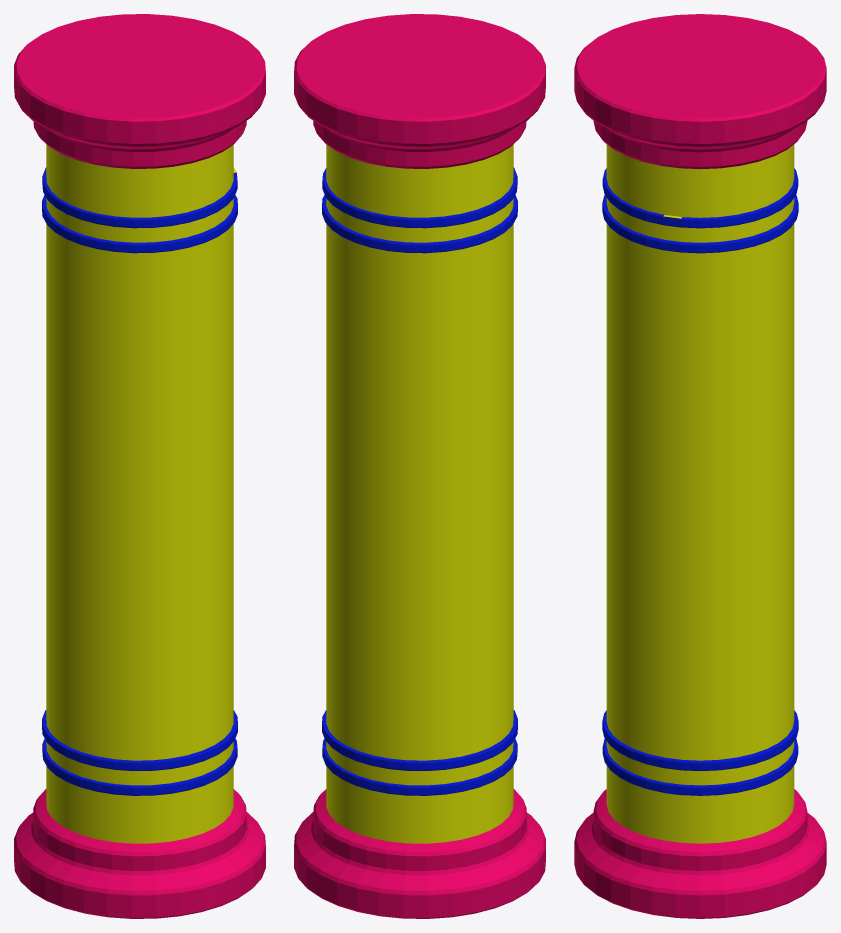
File: column.fbx
3 renders of one model, left to right at view 1: azimuth 30°, elevation 25°; view 2: azimuth 150°, elevation 25°; view 3: azimuth 270°, elevation 25°, orthographic.
Parts seen in each view (by area): view 1: Cylinder.002, Cylinder, Cylinder.001; view 2: Cylinder.002, Cylinder, Cylinder.001; view 3: Cylinder.002, Cylinder, Cylinder.001.
Boxes of the visible parts, left/top/right/bottom form: Cylinder.002: left=46, top=144, right=233, bottom=843; Cylinder: left=14, top=14, right=265, bottom=918; Cylinder.001: left=42, top=167, right=237, bottom=795; Cylinder.002: left=326, top=144, right=513, bottom=843; Cylinder: left=294, top=14, right=545, bottom=918; Cylinder.001: left=322, top=167, right=517, bottom=795; Cylinder.002: left=606, top=144, right=794, bottom=843; Cylinder: left=574, top=14, right=826, bottom=918; Cylinder.001: left=602, top=168, right=798, bottom=795.
Size of the model in its own units: 200 by 700 by 200.
